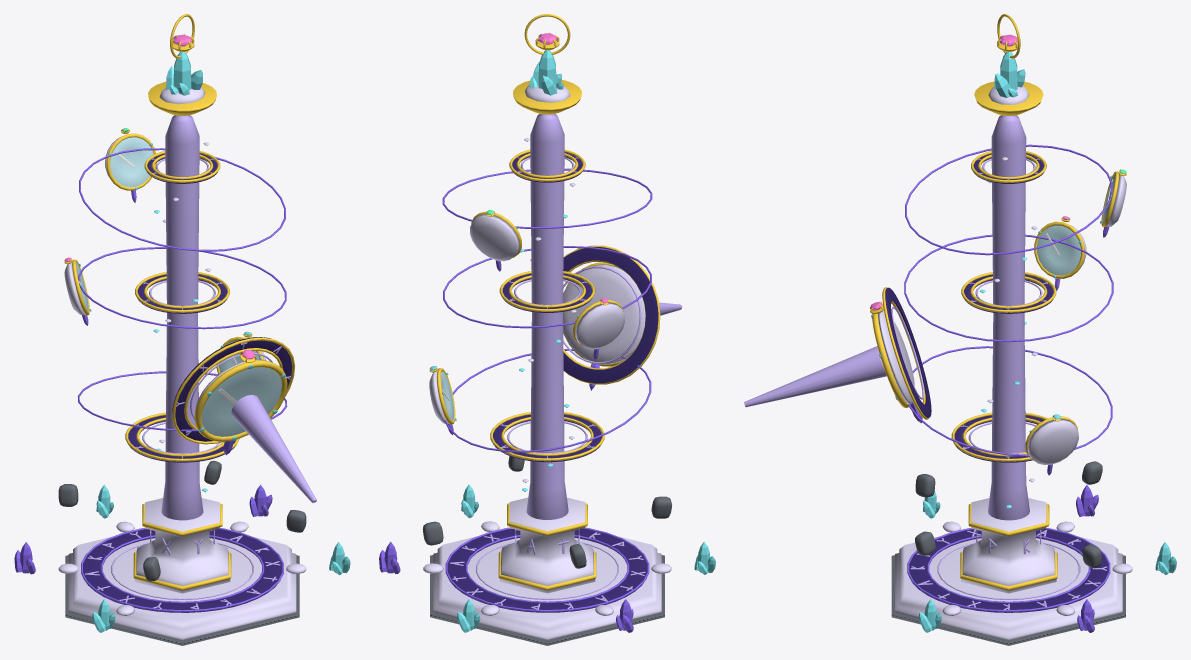
The model's file is SunMirrorTower_T4.fbx.
The picture shows the model from 3 angles, left to right: view 1: azimuth 30°, elevation 25°; view 2: azimuth 150°, elevation 25°; view 3: azimuth 270°, elevation 25°; orthographic projection.
Visible parts, largest first — view 1: SunMirrorTowerT4Dais, SunMirrorTowerT4ColumnGlow, SunMirrorTowerT4Pedestal, SunMirrorTowerT4Mirror, SunMirrorTowerT4MirrorRing, SunMirrorTowerT4OrbitsGlow, SunMirrorTowerT4BeamGlow, SunMirrorTowerT4DaisCrystalsGlow, SunMirrorTowerT4MirrorD, SunMirrorTowerT4Crown, SunMirrorTowerT4RuneRingB, SunMirrorTowerT4RuneStones (+6 smaller); view 2: SunMirrorTowerT4Dais, SunMirrorTowerT4ColumnGlow, SunMirrorTowerT4Pedestal, SunMirrorTowerT4MirrorRing, SunMirrorTowerT4Mirror, SunMirrorTowerT4OrbitsGlow, SunMirrorTowerT4DaisCrystalsGlow, SunMirrorTowerT4Crown, SunMirrorTowerT4RuneRingA, SunMirrorTowerT4MirrorD, SunMirrorTowerT4MirrorC, SunMirrorTowerT4RuneRingB (+7 smaller); view 3: SunMirrorTowerT4Dais, SunMirrorTowerT4ColumnGlow, SunMirrorTowerT4Pedestal, SunMirrorTowerT4OrbitsGlow, SunMirrorTowerT4BeamGlow, SunMirrorTowerT4MirrorC, SunMirrorTowerT4DaisCrystalsGlow, SunMirrorTowerT4MirrorB, SunMirrorTowerT4Crown, SunMirrorTowerT4Mirror, SunMirrorTowerT4MirrorRing, SunMirrorTowerT4RuneStones (+7 smaller).
Boxes of the visible parts, bbox=[...] form: SunMirrorTowerT4Dais: bbox=[65, 528, 299, 645]; SunMirrorTowerT4ColumnGlow: bbox=[153, 115, 211, 520]; SunMirrorTowerT4Pedestal: bbox=[133, 498, 231, 593]; SunMirrorTowerT4Mirror: bbox=[194, 349, 287, 441]; SunMirrorTowerT4MirrorRing: bbox=[172, 337, 294, 444]; SunMirrorTowerT4OrbitsGlow: bbox=[77, 148, 287, 431]; SunMirrorTowerT4BeamGlow: bbox=[231, 394, 316, 503]; SunMirrorTowerT4DaisCrystalsGlow: bbox=[14, 484, 350, 632]; SunMirrorTowerT4MirrorD: bbox=[105, 129, 156, 190]; SunMirrorTowerT4Crown: bbox=[148, 14, 216, 115]; SunMirrorTowerT4RuneRingB: bbox=[135, 272, 229, 313]; SunMirrorTowerT4RuneStones: bbox=[58, 460, 306, 581]; SunMirrorTowerT4Dais: bbox=[430, 527, 664, 645]; SunMirrorTowerT4ColumnGlow: bbox=[519, 114, 576, 519]; SunMirrorTowerT4Pedestal: bbox=[498, 497, 596, 593]; SunMirrorTowerT4MirrorRing: bbox=[563, 245, 660, 384]; SunMirrorTowerT4Mirror: bbox=[563, 262, 645, 366]; SunMirrorTowerT4OrbitsGlow: bbox=[442, 168, 652, 452]; SunMirrorTowerT4DaisCrystalsGlow: bbox=[379, 484, 715, 632]; SunMirrorTowerT4Crown: bbox=[513, 14, 581, 114]; SunMirrorTowerT4RuneRingA: bbox=[490, 412, 604, 462]; SunMirrorTowerT4MirrorD: bbox=[470, 211, 521, 261]; SunMirrorTowerT4MirrorC: bbox=[573, 299, 624, 349]; SunMirrorTowerT4RuneRingB: bbox=[499, 271, 595, 312]; SunMirrorTowerT4Dais: bbox=[891, 528, 1125, 645]; SunMirrorTowerT4ColumnGlow: bbox=[980, 115, 1037, 520]; SunMirrorTowerT4Pedestal: bbox=[960, 498, 1057, 593]; SunMirrorTowerT4OrbitsGlow: bbox=[904, 144, 1113, 456]; SunMirrorTowerT4BeamGlow: bbox=[744, 346, 886, 407]; SunMirrorTowerT4MirrorC: bbox=[1034, 217, 1086, 278]; SunMirrorTowerT4DaisCrystalsGlow: bbox=[919, 485, 1176, 632]; SunMirrorTowerT4MirrorB: bbox=[1025, 414, 1078, 464]; SunMirrorTowerT4Crown: bbox=[974, 14, 1043, 115]; SunMirrorTowerT4Mirror: bbox=[870, 301, 914, 407]; SunMirrorTowerT4MirrorRing: bbox=[882, 287, 931, 419]; SunMirrorTowerT4RuneStones: bbox=[915, 461, 1102, 568].
Size of the model in its own units: 292 by 625 by 428.
